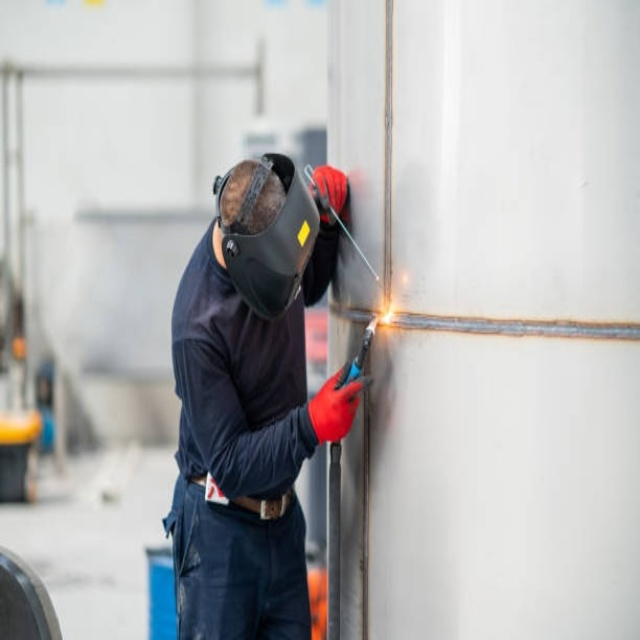Guantes: (307, 362, 369, 447), (310, 165, 349, 227)
